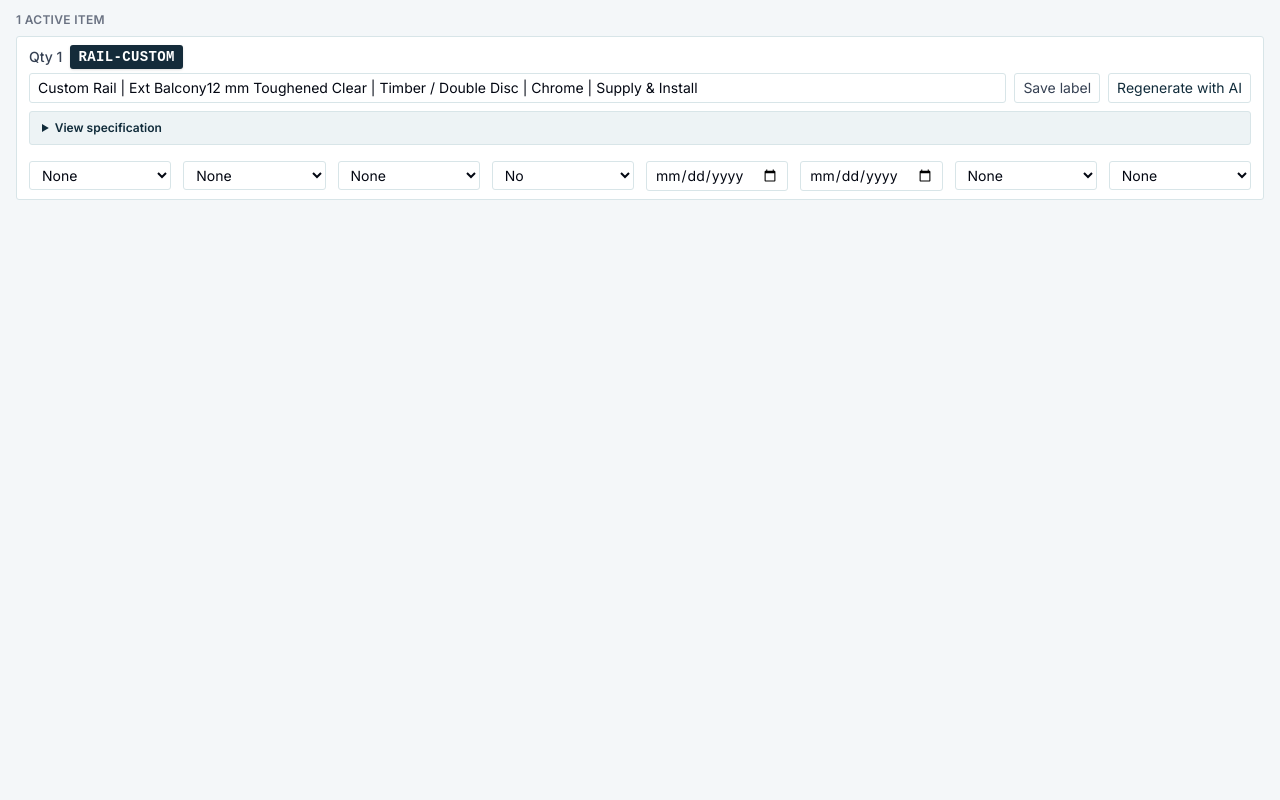
Test: WorkOrderItemsSummary › reviews a worker draft using an active database-only catalogue option
Click the heading "View specification". click: (108, 128)
box: [55,120,162,135]
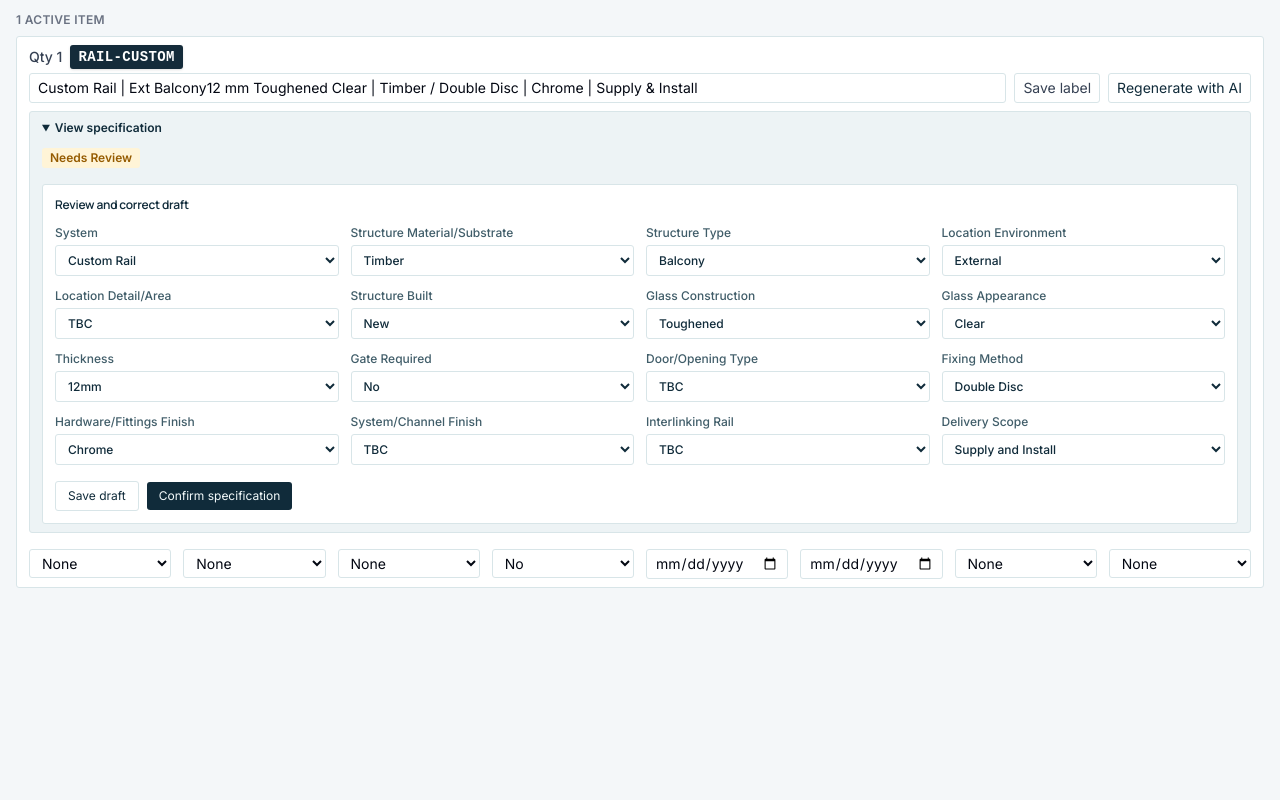
Expected: the dropdown named "System for RAIL-CUSTOM" shows "Custom Rail", [55,245,338,276]
